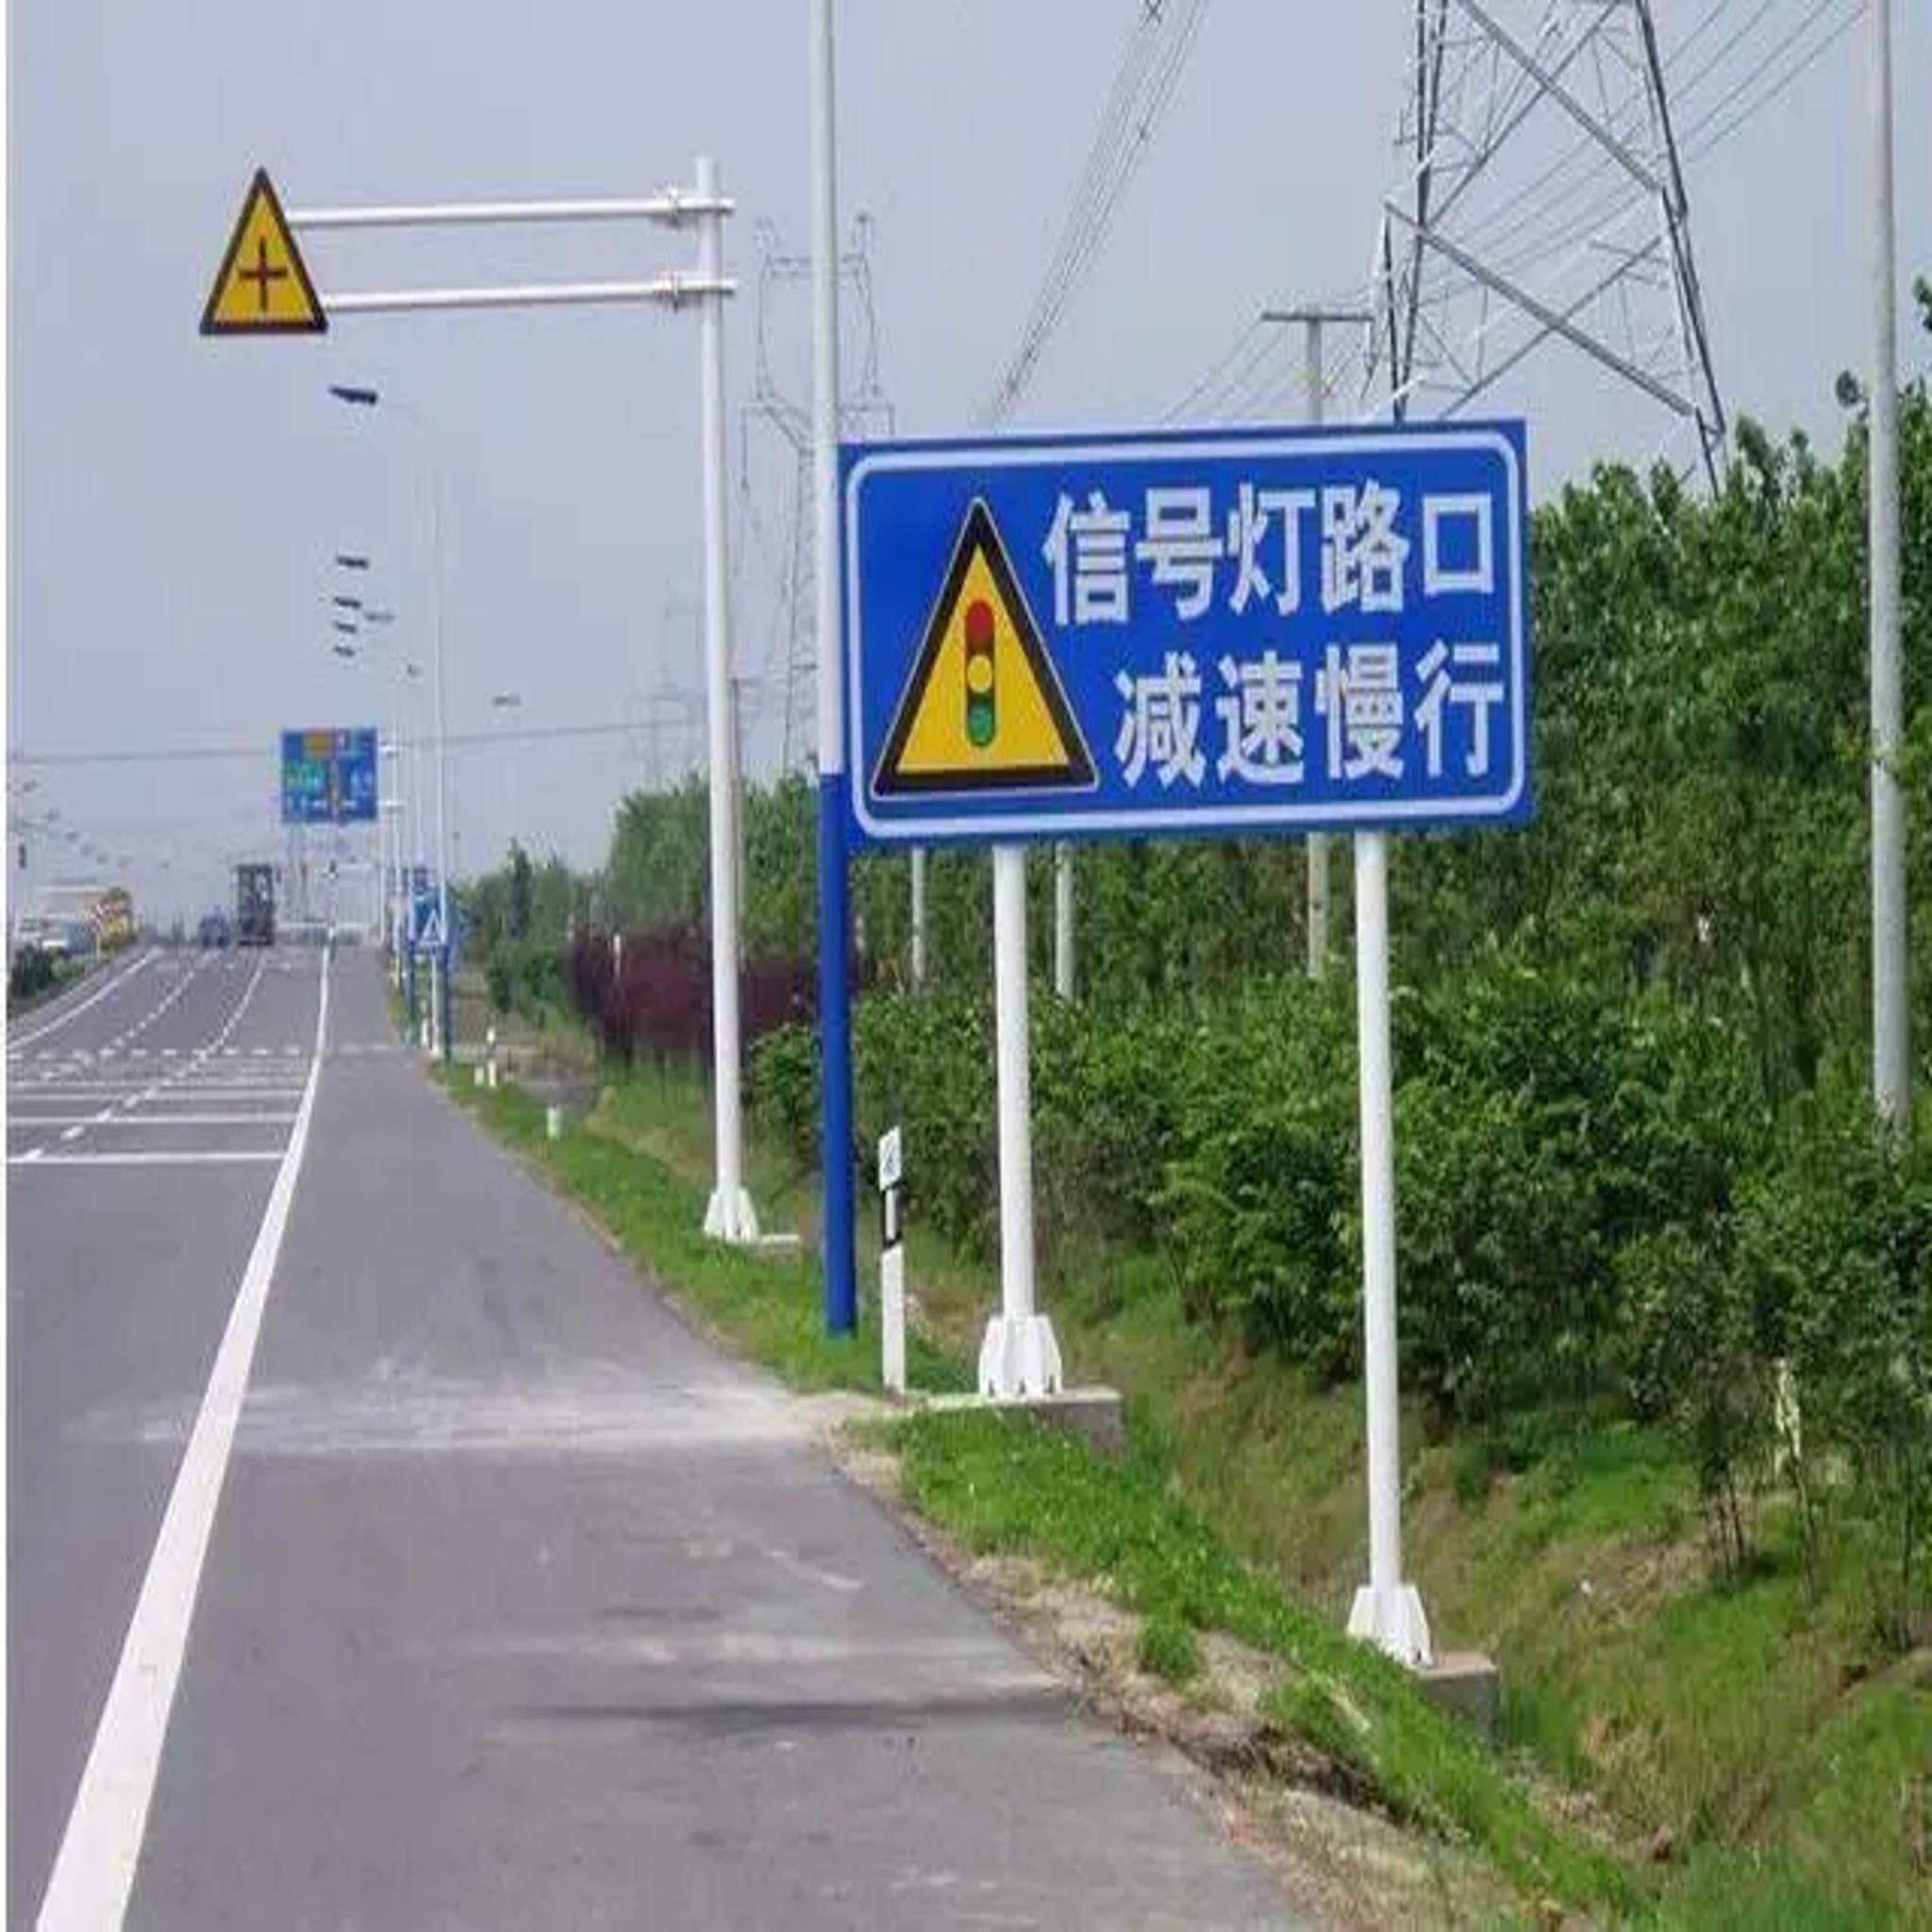ip: (410, 899, 460, 954)
w13: (193, 159, 334, 333)
